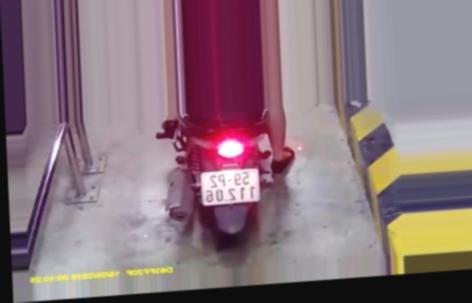License_Plate: (196, 165, 264, 211)
